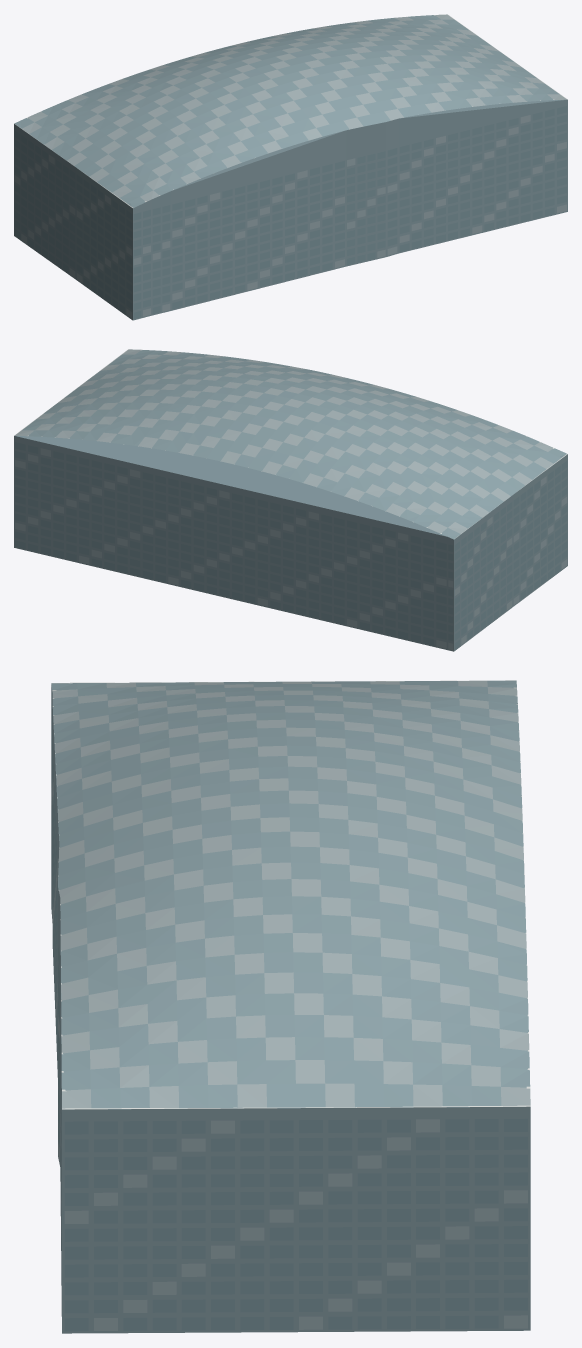
Rendered from landmark-c1e08f26-ebe0-4a95-827d-c617ca8b3d5f-civic.glb.
3 renders of one model, top to bottom at view 1: azimuth 30°, elevation 25°; view 2: azimuth 150°, elevation 25°; view 3: azimuth 270°, elevation 25°, orthographic. The views are drawn at different scales.
Visible parts, largest first — view 1: landmark-c1e08f26-ebe0-4a95-827d-c617ca8b3d5f; view 2: landmark-c1e08f26-ebe0-4a95-827d-c617ca8b3d5f; view 3: landmark-c1e08f26-ebe0-4a95-827d-c617ca8b3d5f.
Boxes of the visible parts, left/top/right/bottom form: landmark-c1e08f26-ebe0-4a95-827d-c617ca8b3d5f: left=14, top=14, right=567, bottom=320; landmark-c1e08f26-ebe0-4a95-827d-c617ca8b3d5f: left=14, top=349, right=567, bottom=651; landmark-c1e08f26-ebe0-4a95-827d-c617ca8b3d5f: left=51, top=680, right=530, bottom=1333.
Bounding box in the file's own units: 107 × 36.6 × 50.41.
